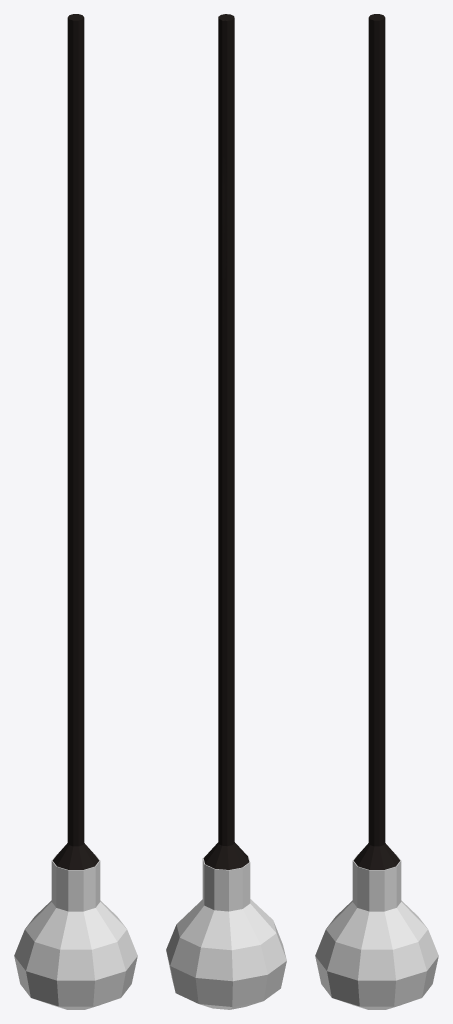
File: LampRoof2.fbx
The picture shows the model from 3 angles, left to right: view 1: azimuth 90°, elevation 25°; view 2: azimuth 150°, elevation 25°; view 3: azimuth 270°, elevation 25°; orthographic projection.
Visible parts, largest first — view 1: Lamp, Light.001; view 2: Lamp, Light.001; view 3: Lamp, Light.001.
Boxes of the visible parts, <box> form: Lamp: <box>52,14,99,869</box>; Light.001: <box>14,854,137,1009</box>; Lamp: <box>203,14,249,869</box>; Light.001: <box>166,856,286,1009</box>; Lamp: <box>353,14,400,869</box>; Light.001: <box>315,854,438,1009</box>.
Bounding box in the file's own units: 76.56 × 705 × 80.5.
